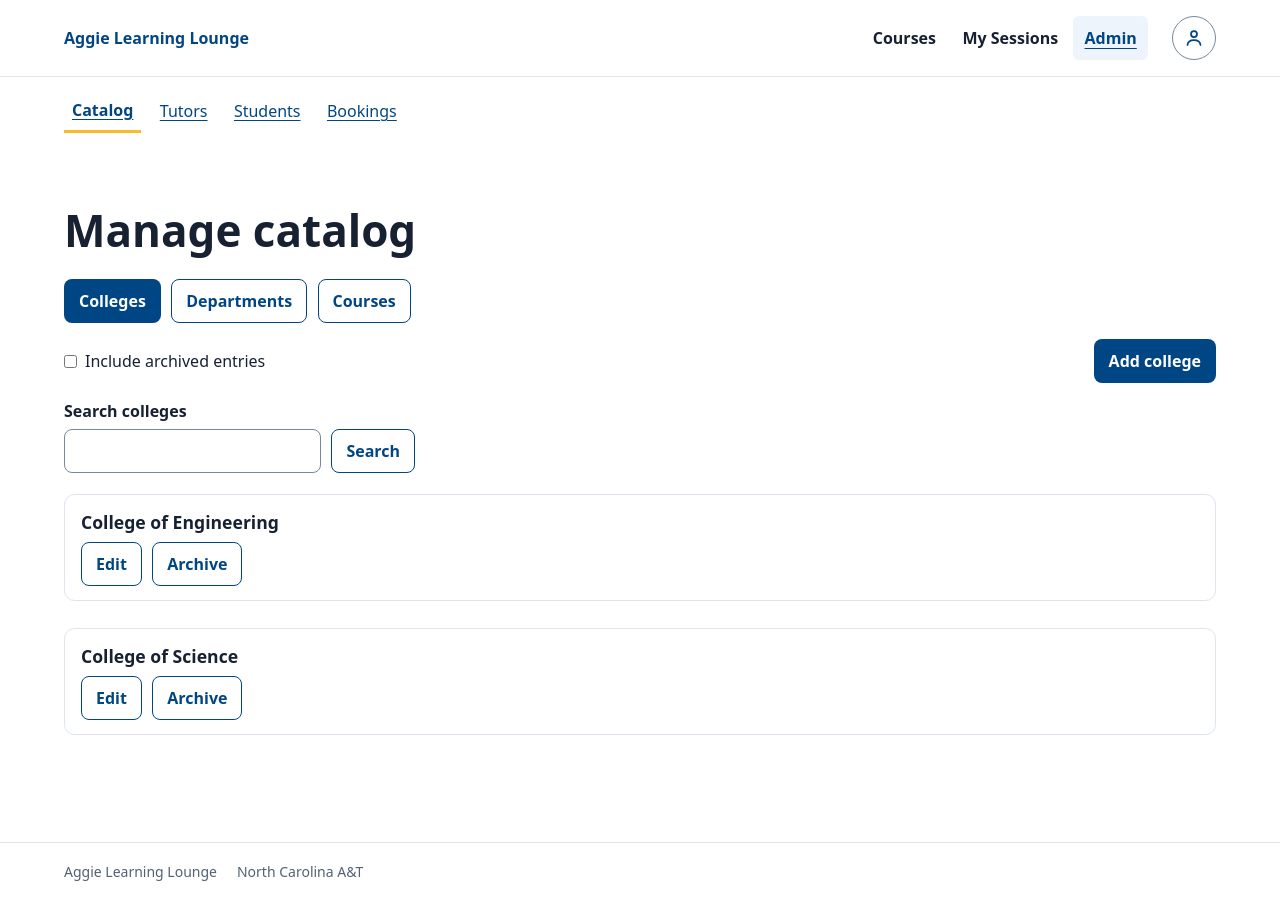
Test: Phase 3 — Discovery, catalog, and tutor onboarding › archives a catalog entry only after confirmation
Expected: the heading "College of Engineering" is shown, [81,510,279,534]
Click the button "Archive" below "College of Engineering". click: click(197, 564)
box: [152,542,242,586]
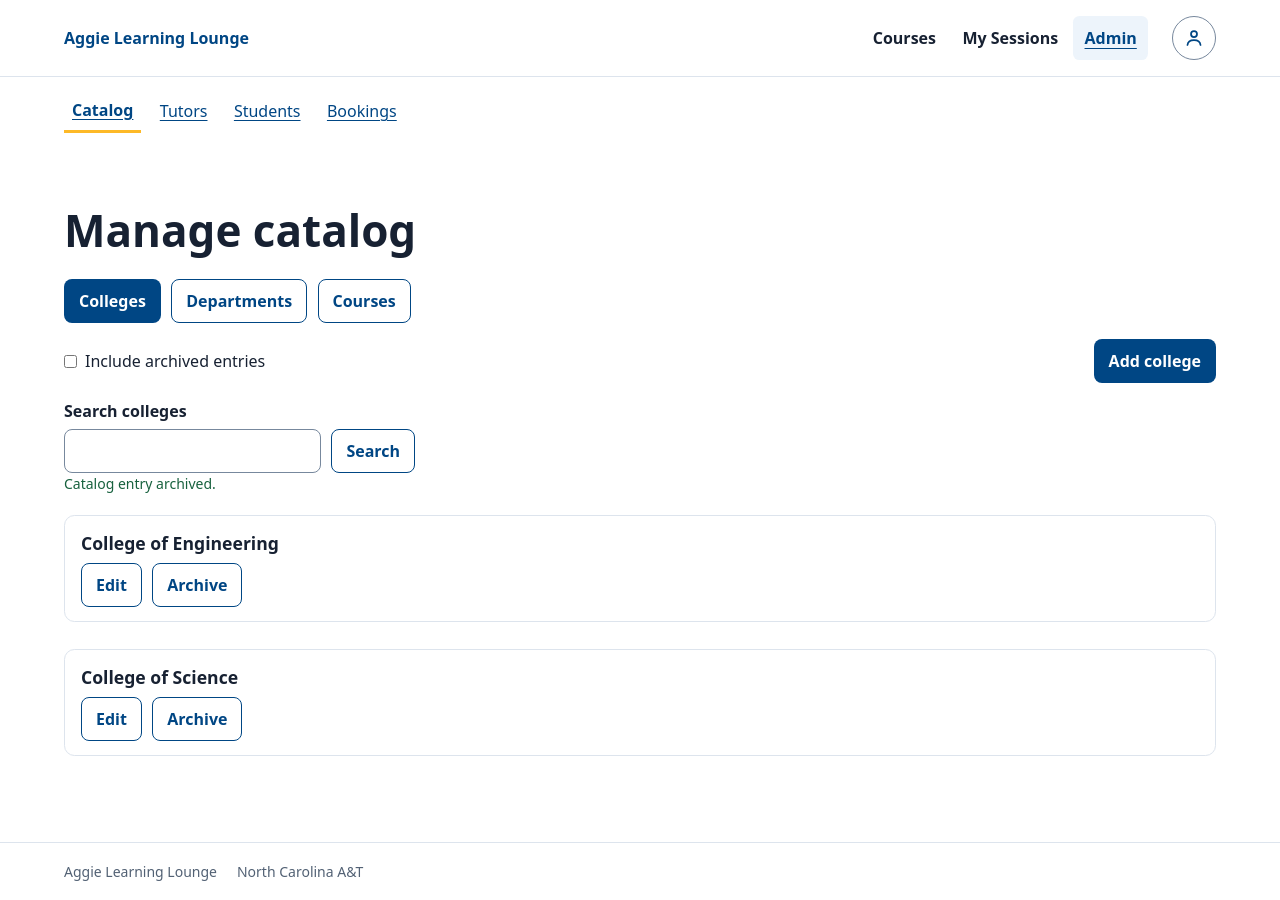
Expected: the text "Catalog entry archived." is shown, [64,474,216,493]
